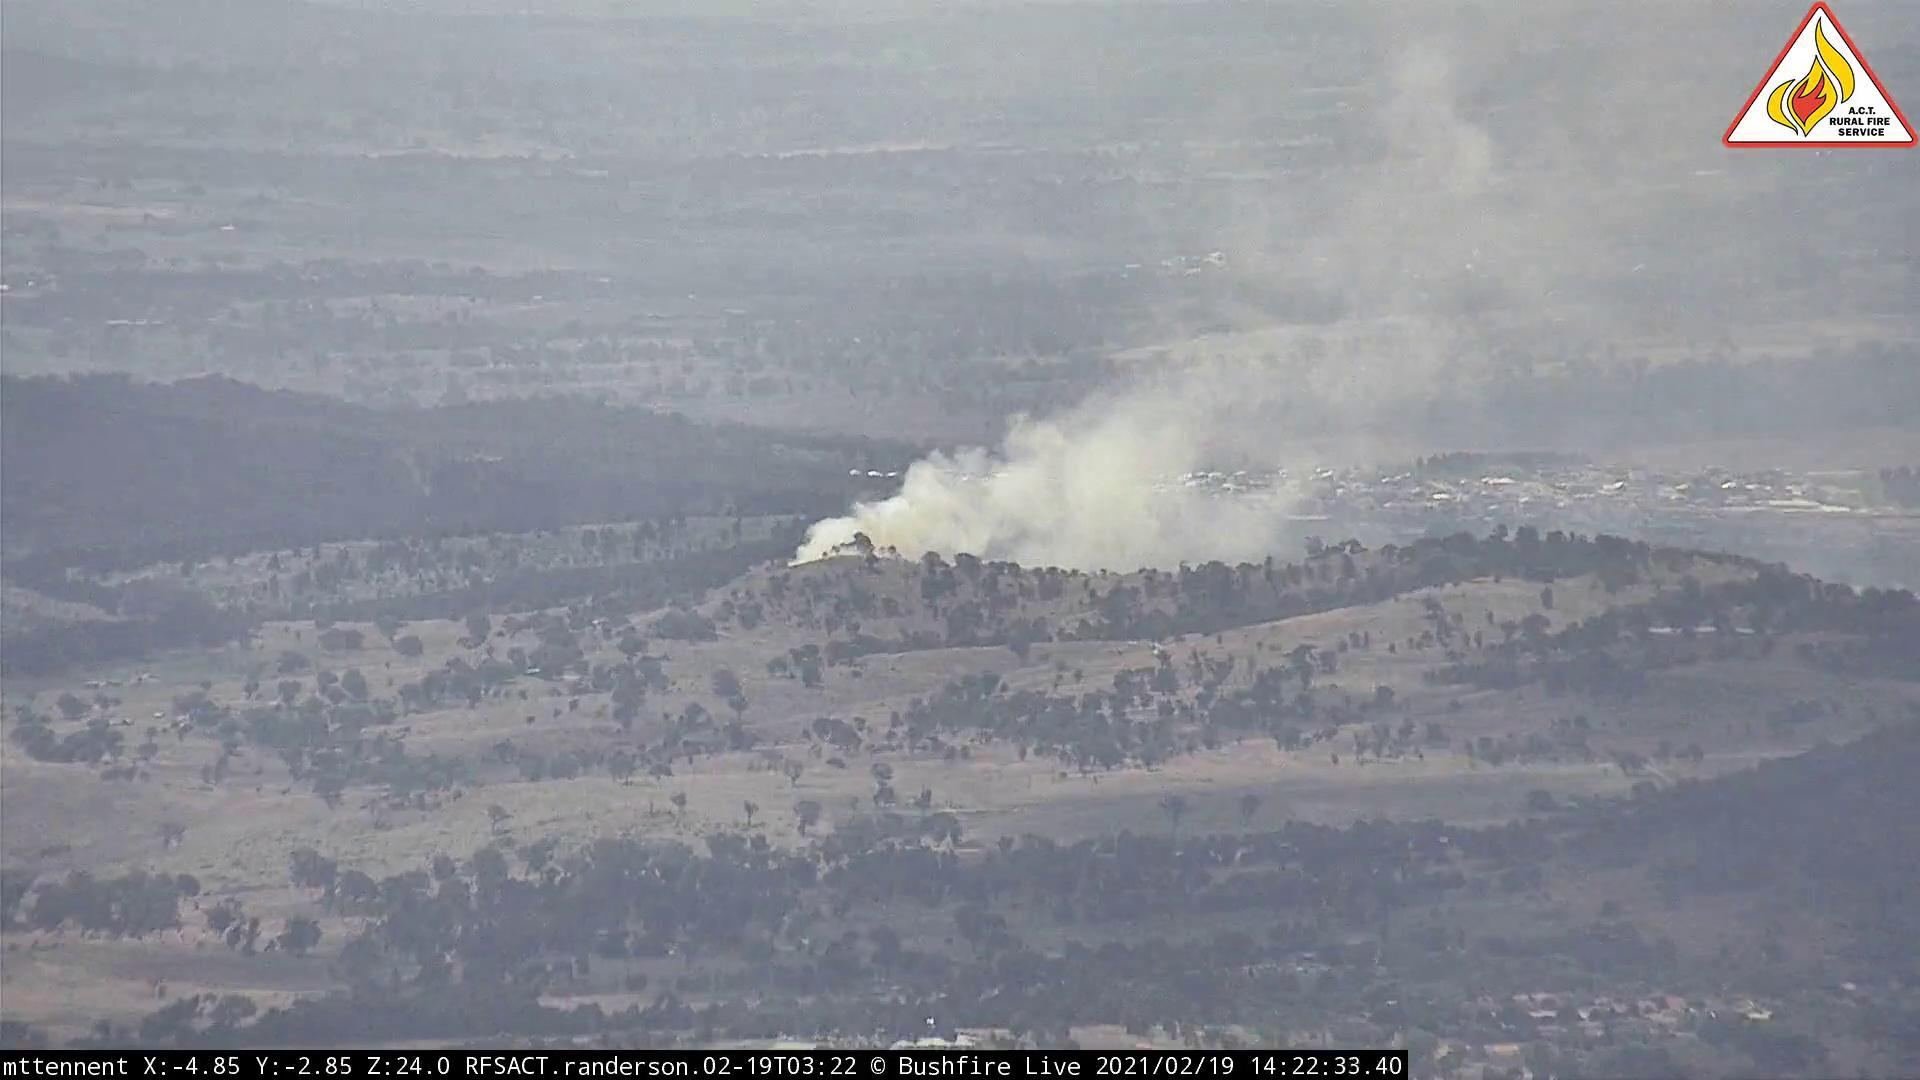Smoke: (770, 46, 1543, 611)
